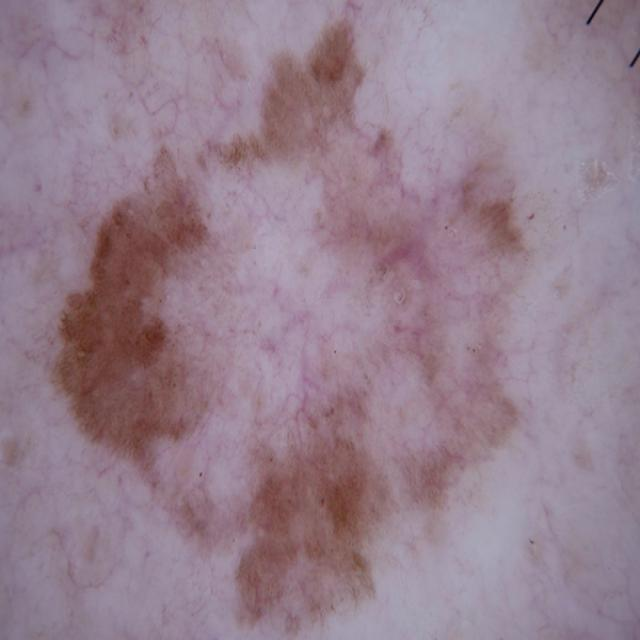Skin-Cancer Pigmented benign keratosis: (15, 27, 611, 640)
